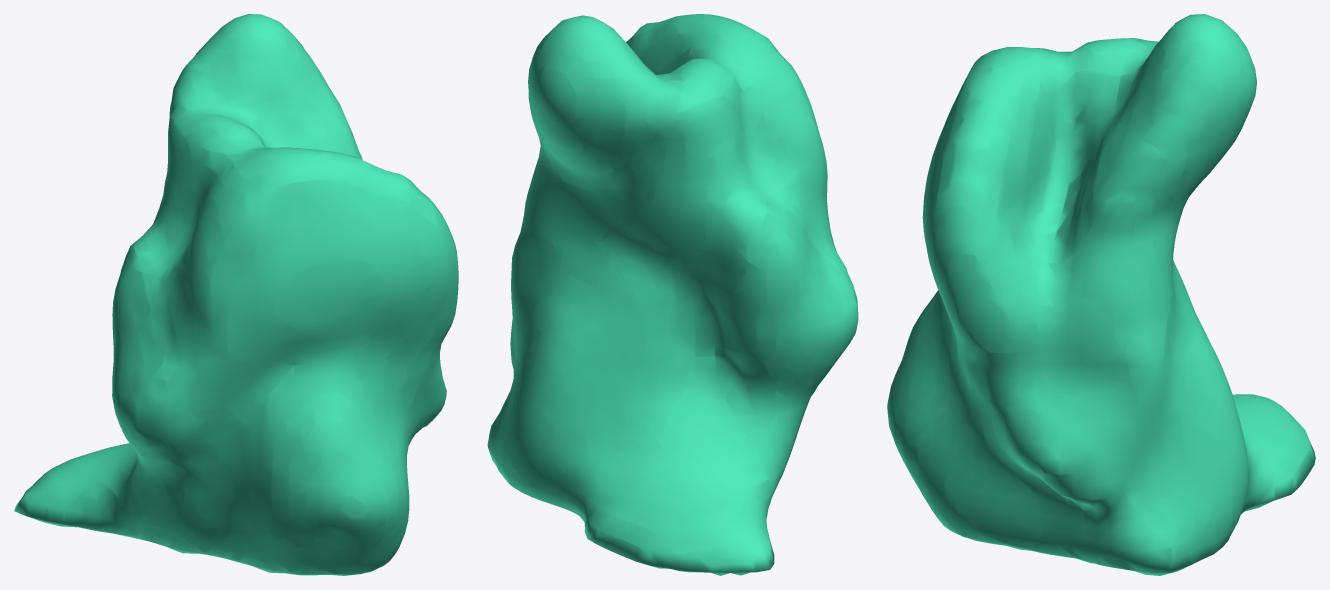
3 renders of one model, left to right at view 1: azimuth 30°, elevation 25°; view 2: azimuth 150°, elevation 25°; view 3: azimuth 270°, elevation 25°, orthographic. The views are drawn at different scales.
Visible parts, largest first — view 1: Liquid_Domain; view 2: Liquid_Domain; view 3: Liquid_Domain.
Part boxes in pixels (bbox=[...]): Liquid_Domain: bbox=[14, 14, 458, 575]; Liquid_Domain: bbox=[487, 14, 858, 575]; Liquid_Domain: bbox=[887, 14, 1315, 575].
Size of the model in its own units: 3.82 by 5.23 by 3.95.
